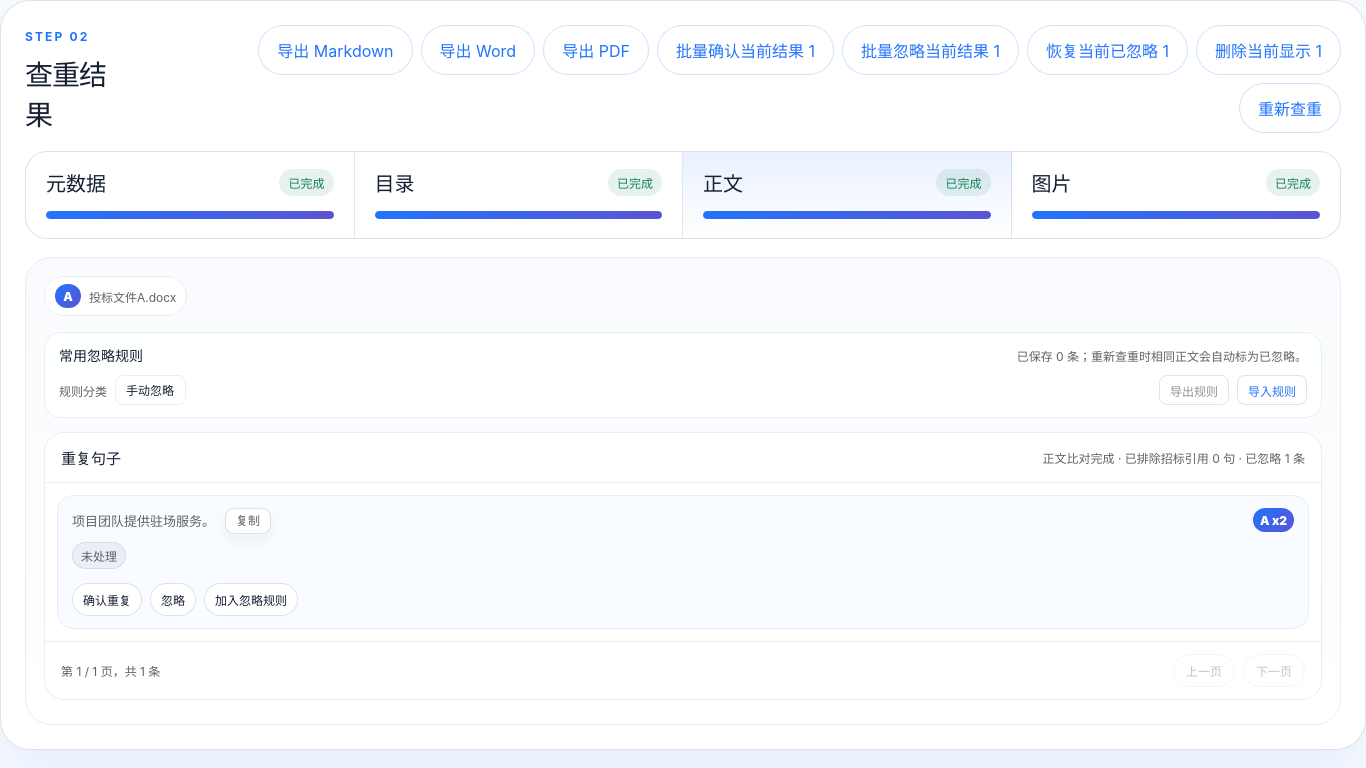
Test: DuplicateCheckPage resolution actions › saves current duplicate sentence as a reusable ignore rule
Expected: the text "项目团队提供驻场服务。" is shown, [72,513,215,529]
Expected: the text "已保存 0 条；重新查重时相同正文会自动标为已忽略。" is shown, [1017,346,1307,364]
Select "固定模板" in the dropdown named "正文忽略规则分类": (150, 390) [115,375,186,405]
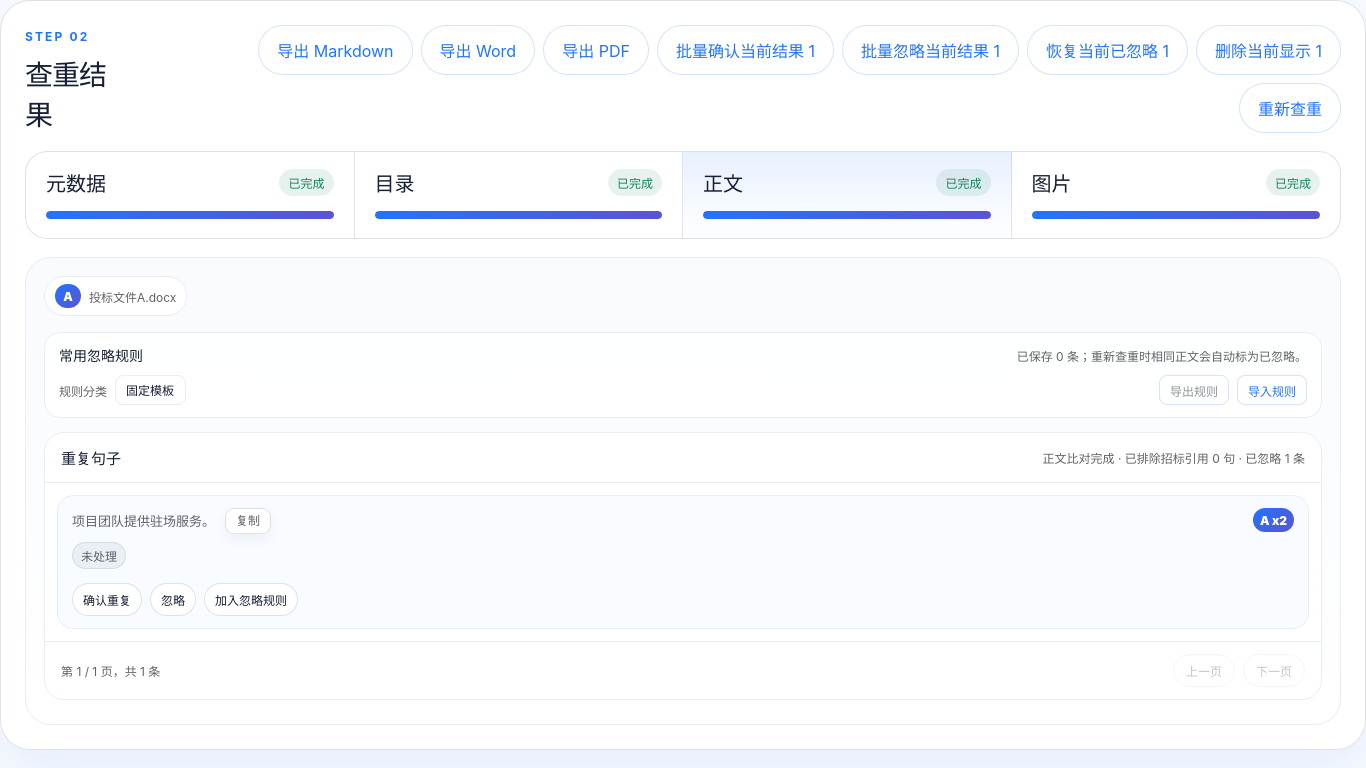
Click the button "加入忽略规则": (251, 600) [204,583,298,616]
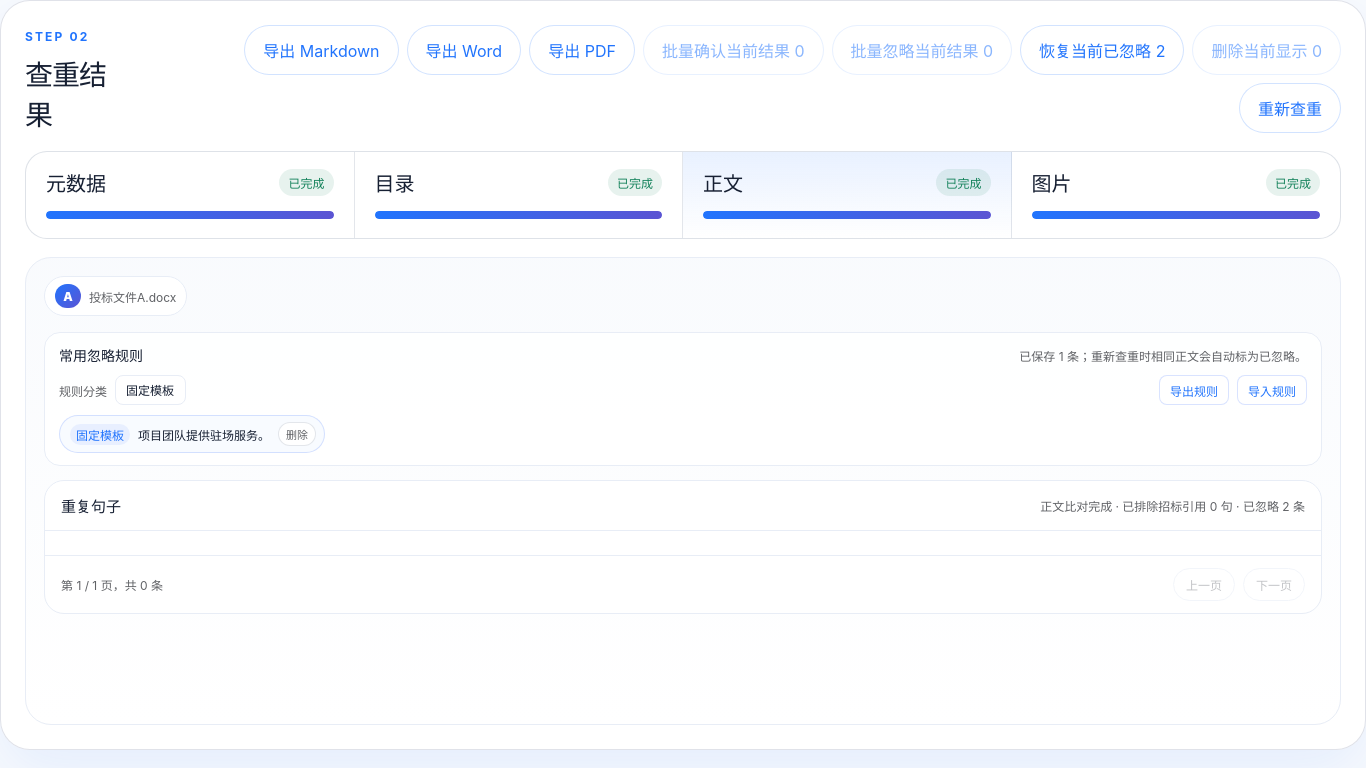
Result: the text "已保存 1 条；重新查重时相同正文会自动标为已忽略。" is shown at [1019,346,1307,364]
Result: the button with aria-label "删除忽略规则 项目团队提供驻场服务。" is shown at [278,422,316,446]
